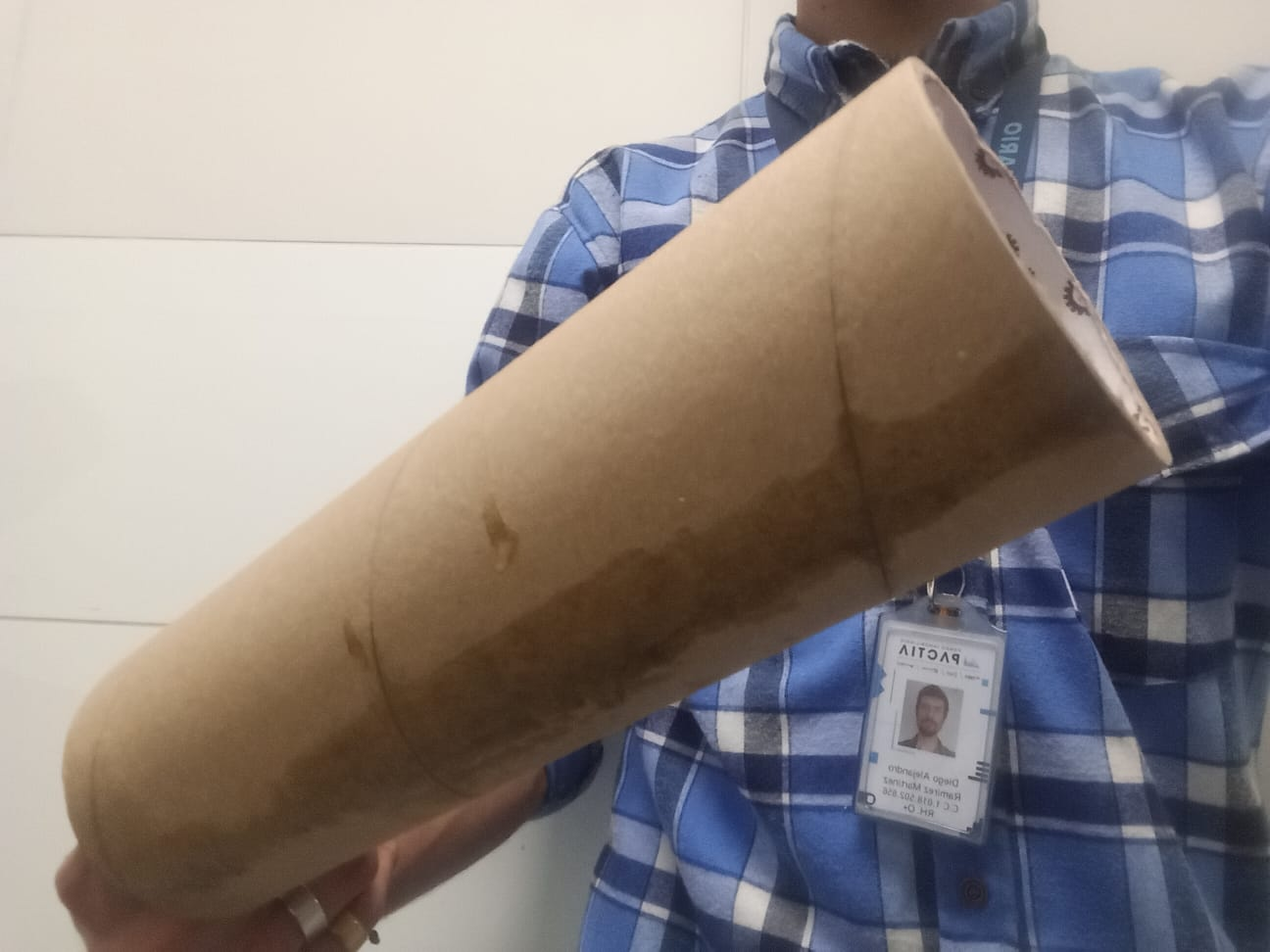Carton: (64, 56, 1180, 925)
